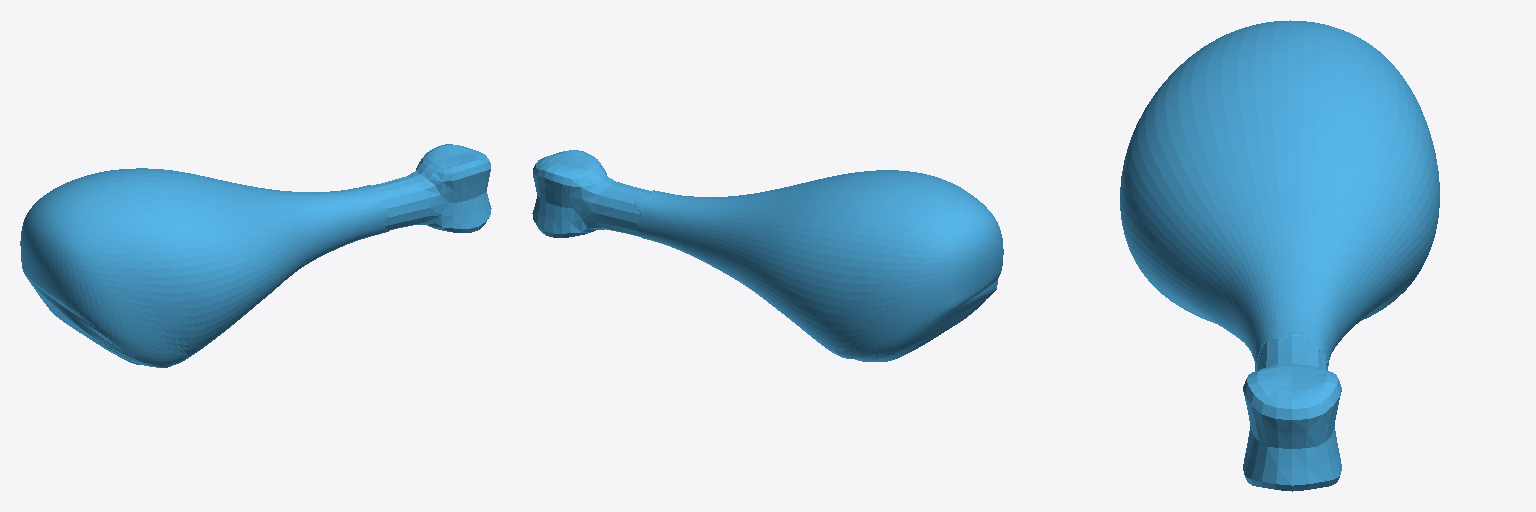
The robot description file, URDF, robot "partnet_ca2341f33cd4995dae7fdc0845a47bf5":
<?xml version="1.0" ?>
<robot name="partnet_ca2341f33cd4995dae7fdc0845a47bf5">
	<link name="base"/>
	<link name="link_1">
		<visual name="body-6">
			<origin xyz="0 0 0"/>
			<geometry>
				<mesh filename="turkeyleg.obj"/>
			</geometry>
		</visual>
		<collision>
			<origin xyz="0 0 0"/>
			<geometry>
				<mesh filename="turkeyleg.obj"/>
			</geometry>
		</collision>
	</link>
	<joint name="joint_1" type="fixed">
		<origin rpy="1.570796326794897 0 -1.570796326794897" xyz="0 0 0"/>
		<child link="link_1"/>
		<parent link="base"/>
	</joint>
</robot>

--- What the picture shows (computed from the rendered views, not written in the file) ---
3 views of the same robot in one strip: view 1: azimuth 30°, elevation 25°; view 2: azimuth 150°, elevation 25°; view 3: azimuth 270°, elevation 25° (orthographic).
Robot: partnet_ca2341f33cd4995dae7fdc0845a47bf5 — 2 links, 1 joints (1 fixed); root link base; default pose: every joint at zero.
Visible links, largest first — view 1: link_1; view 2: link_1; view 3: link_1.
Boxes of the visible links, left/top/right/bottom form: link_1: left=20, top=144, right=491, bottom=367; link_1: left=532, top=150, right=1003, bottom=361; link_1: left=1120, top=20, right=1439, bottom=491.
Size in the robot's own frame: 227 by 92.55 by 81.49 metres.
1 mesh visuals loaded from 1 distinct referenced files (1 OBJ).